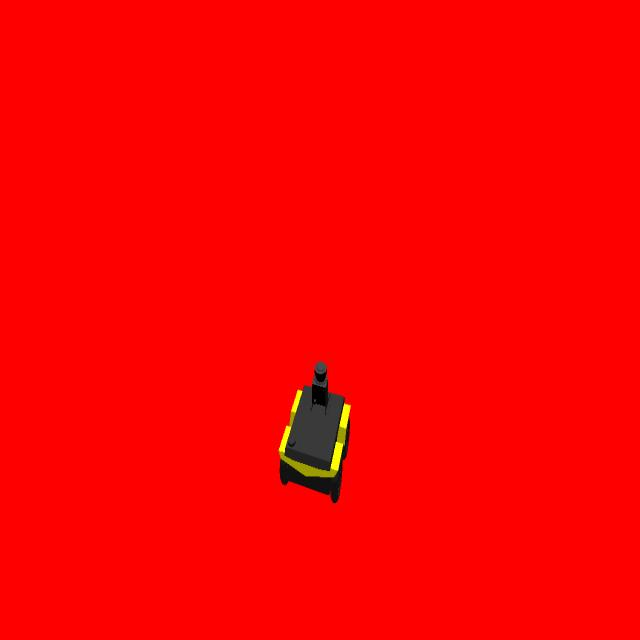jackal: (275, 359, 351, 504)
